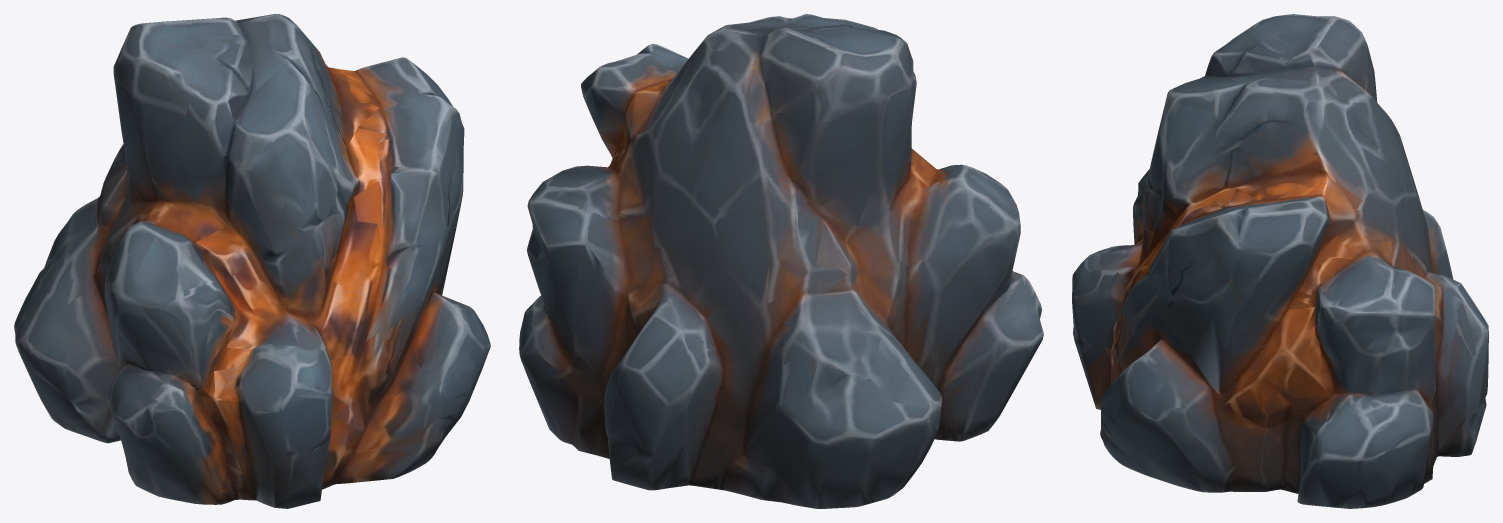
Rendered from IronOre.glb.
3 views of the same model, side by side, from view 1: azimuth 30°, elevation 25°; view 2: azimuth 150°, elevation 25°; view 3: azimuth 270°, elevation 25° (orthographic). The views are drawn at different scales.
Parts seen in each view (by area): view 1: IronOre; view 2: IronOre; view 3: IronOre.
Boxes of the visible parts, <box> form: IronOre: <box>14,14,490,508</box>; IronOre: <box>519,14,1043,508</box>; IronOre: <box>1072,14,1488,508</box>.
Bounding box in the file's own units: 1.33 × 1.25 × 1.27.
Materials: 1 (1 with a texture image).
